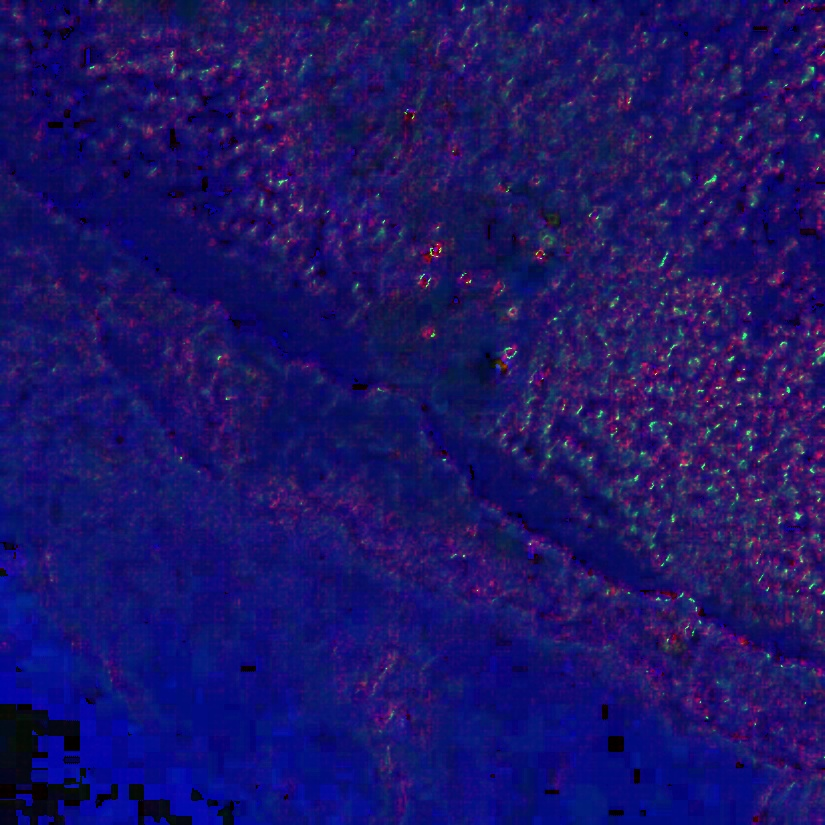rip_current: (243, 36, 615, 430)
